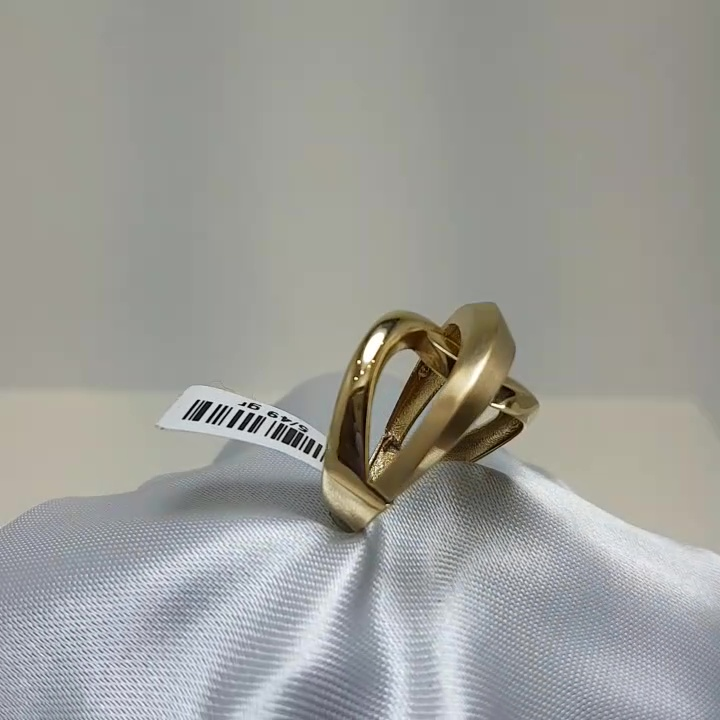Ring 3: (282, 266, 567, 531)
